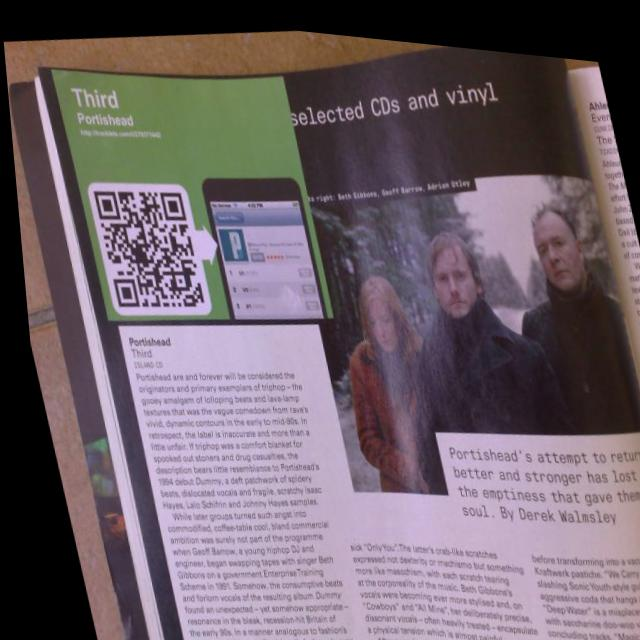qrcode: (89, 179, 203, 316)
